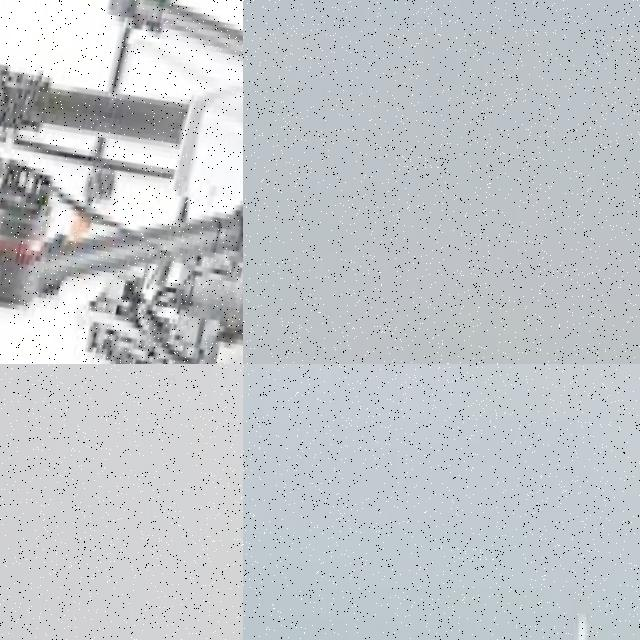drone: (0, 0, 243, 364)
